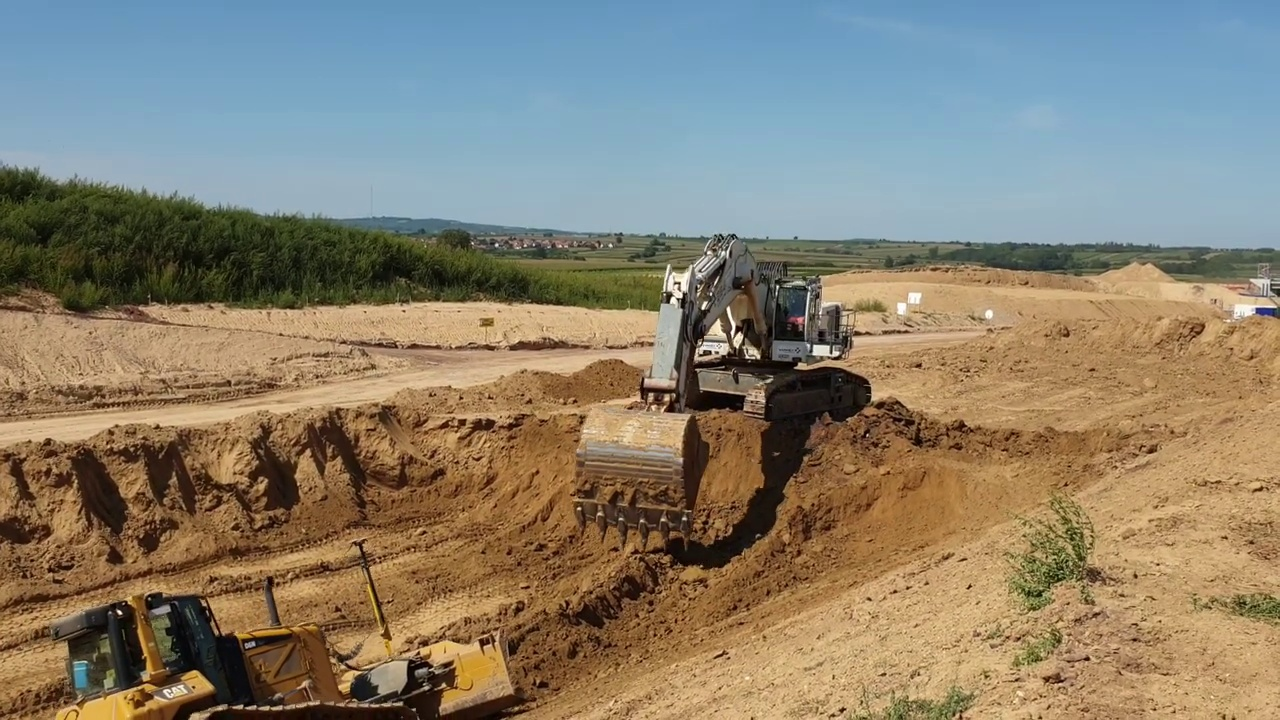bulldozer: (4, 531, 517, 720)
excavator: (568, 230, 876, 554)
